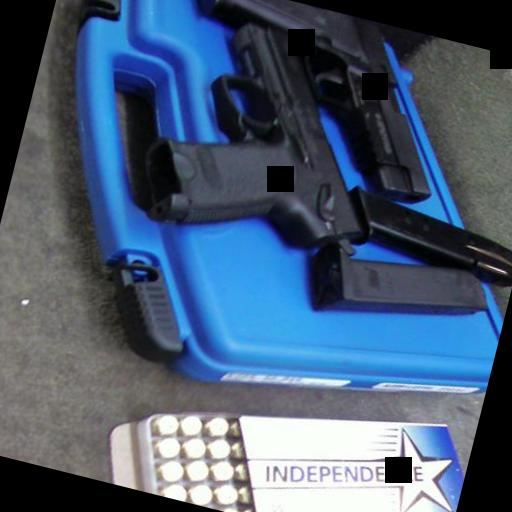Handgun: (126, 0, 401, 274), (149, 0, 468, 210)
